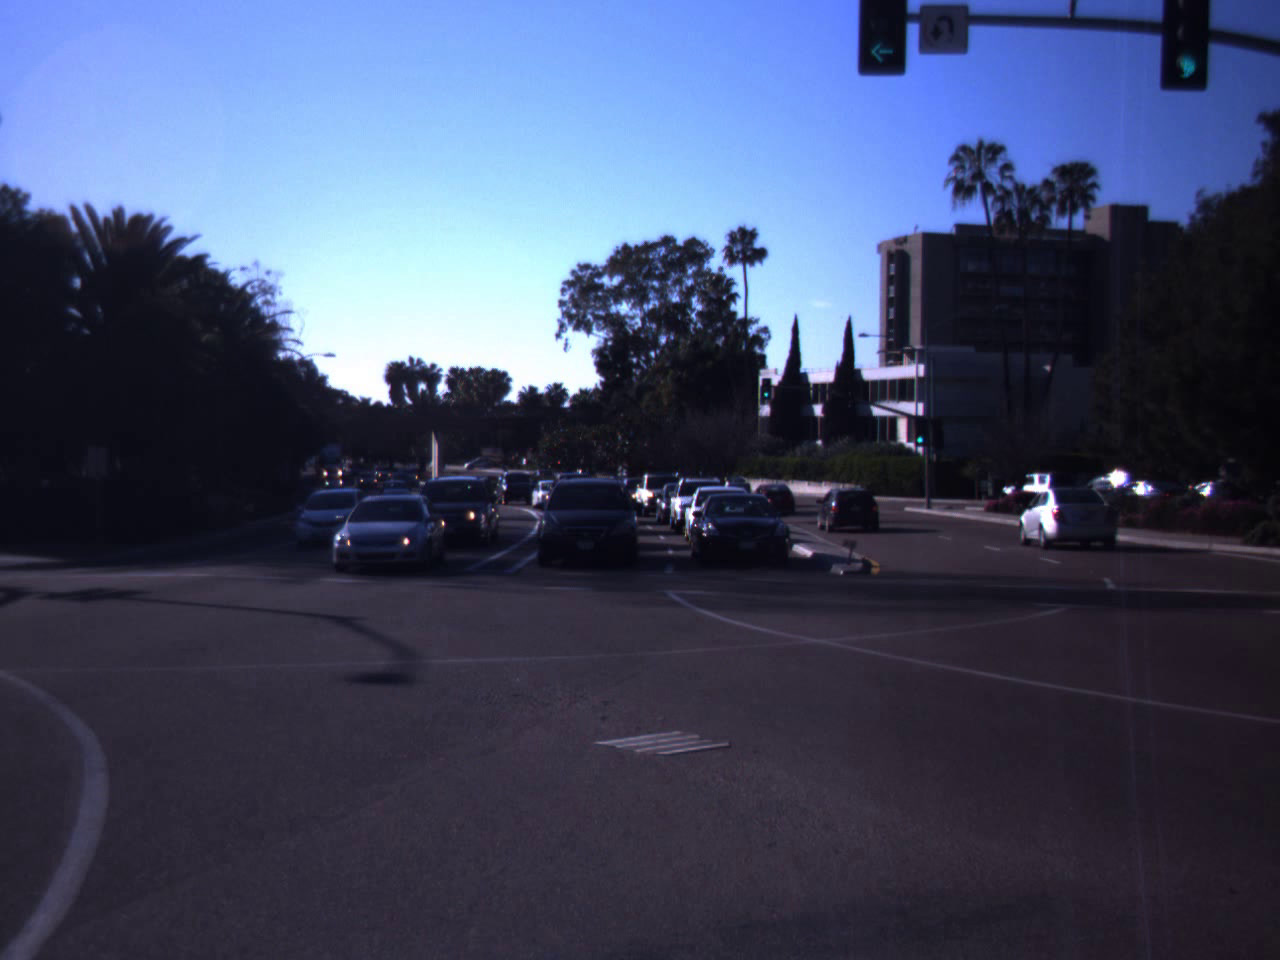go: (849, 0, 915, 73), (1164, 0, 1212, 89)
